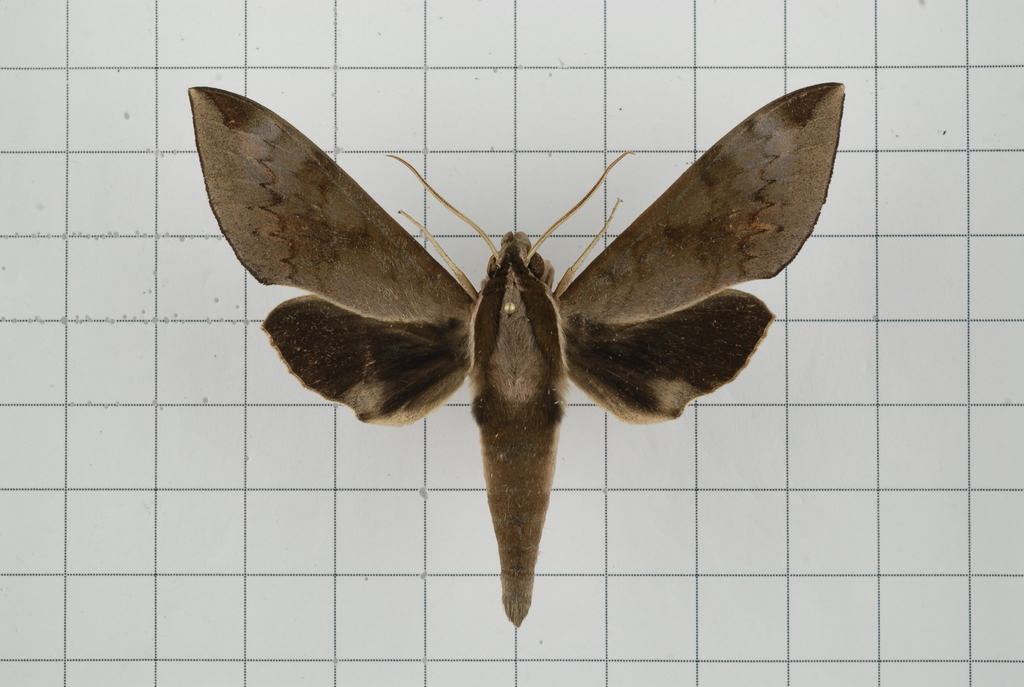Butterfly: (179, 73, 863, 639)
